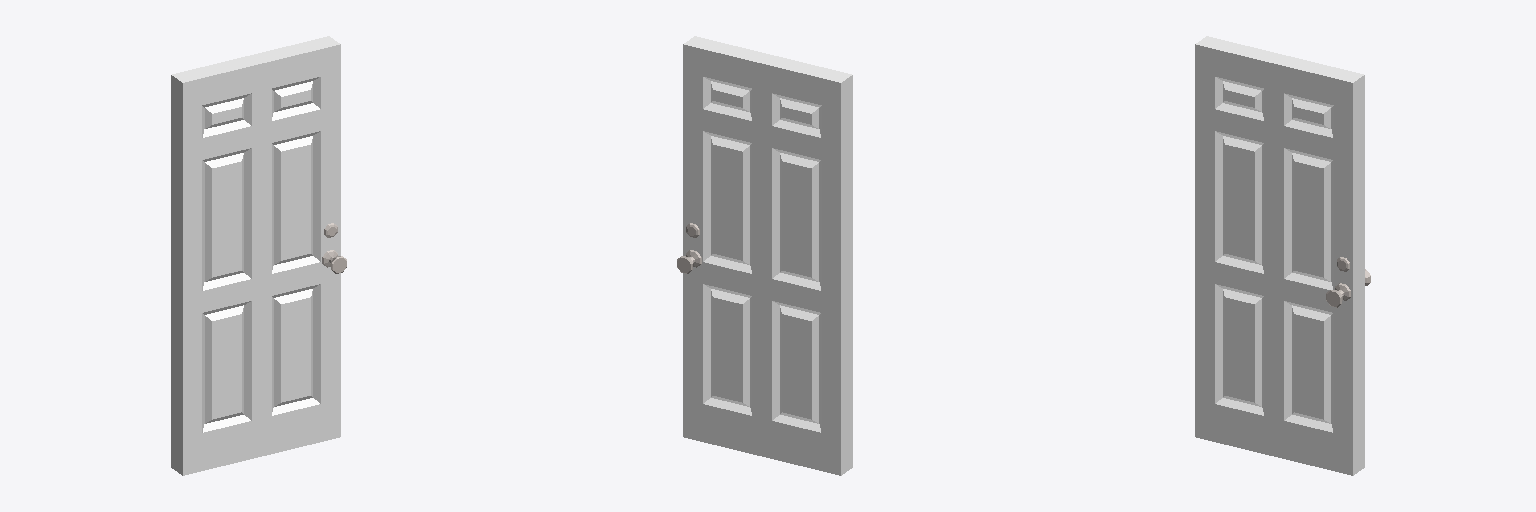
The model's file is Structure_Wall_Door.obj.
The picture shows the model from 3 angles: view 1: azimuth 30°, elevation 25°; view 2: azimuth 150°, elevation 25°; view 3: azimuth 330°, elevation 25°; orthographic projection.
Parts seen in each view (by area): view 1: object4; view 2: object4; view 3: object4.
Boxes of the visible parts, x1=… form: object4: x1=171, y1=36, x2=340, y2=475; object4: x1=683, y1=36, x2=852, y2=475; object4: x1=1195, y1=36, x2=1364, y2=475.
Size of the model in its own units: 0.8 by 1.9 by 0.267.